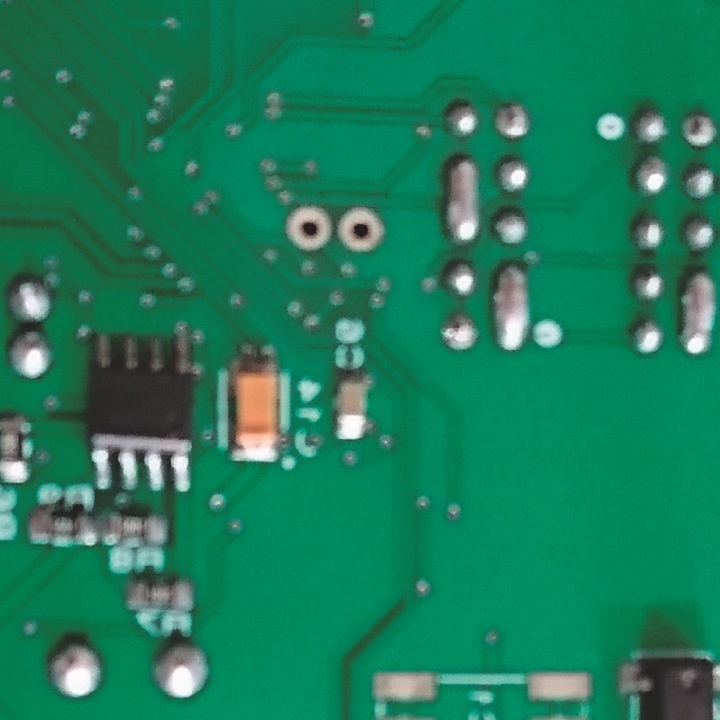F: (281, 198, 333, 253), (336, 206, 386, 255), (491, 100, 531, 148), (438, 312, 476, 356), (679, 109, 716, 150)
P: (489, 254, 535, 358), (681, 266, 717, 361), (443, 155, 480, 245)
